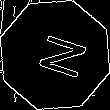N_W: (25, 28, 85, 82)
